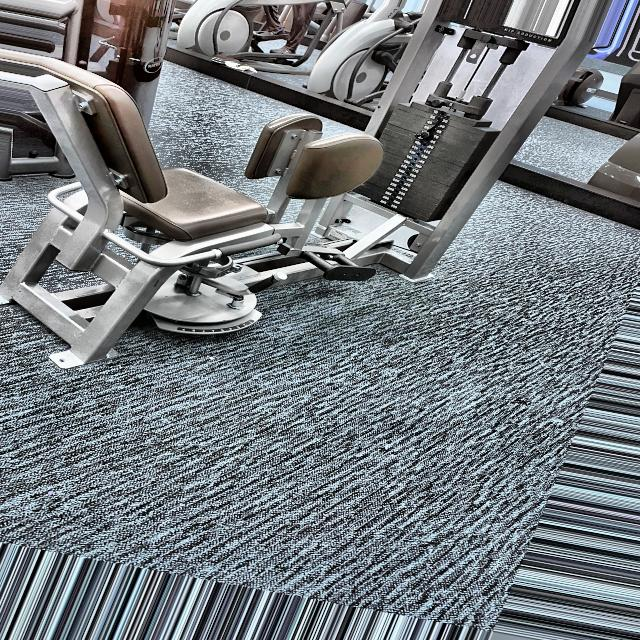hip_adduction_machine: (30, 55, 414, 372)
